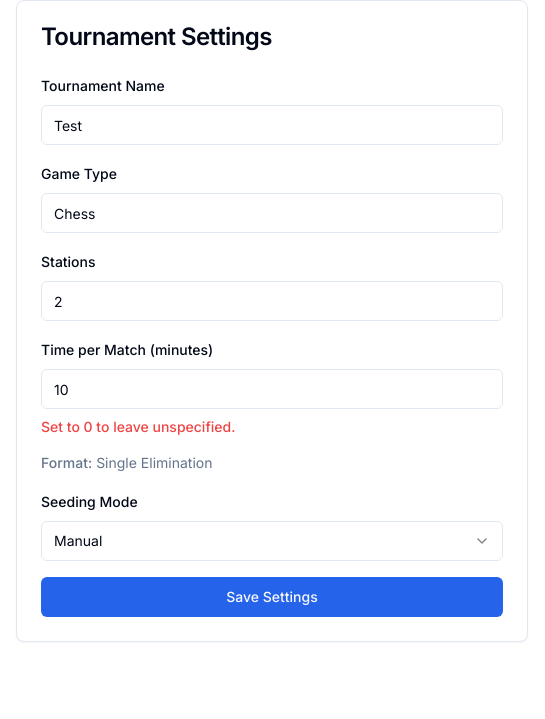
Test case: TournamentSettingsForm › shows no changes message when nothing changed
Click the button "Save Settings". click: [272, 597]
box: [41,577,503,617]
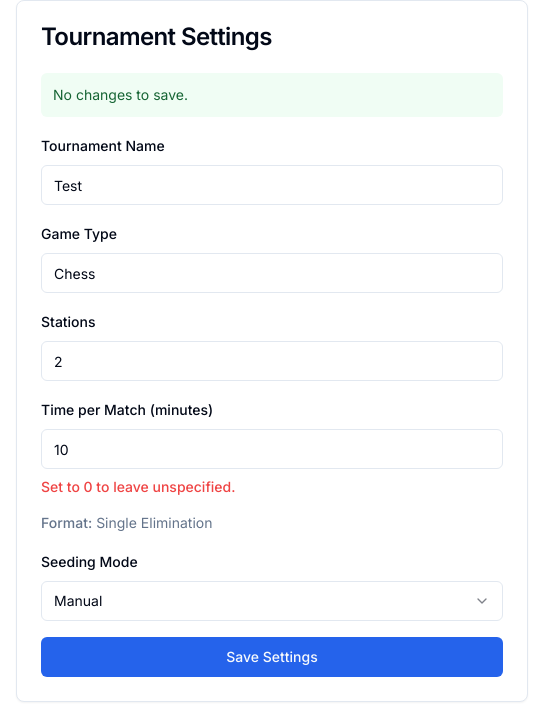
Check: the text "No changes to save." is shown, box [41,73,503,117]
